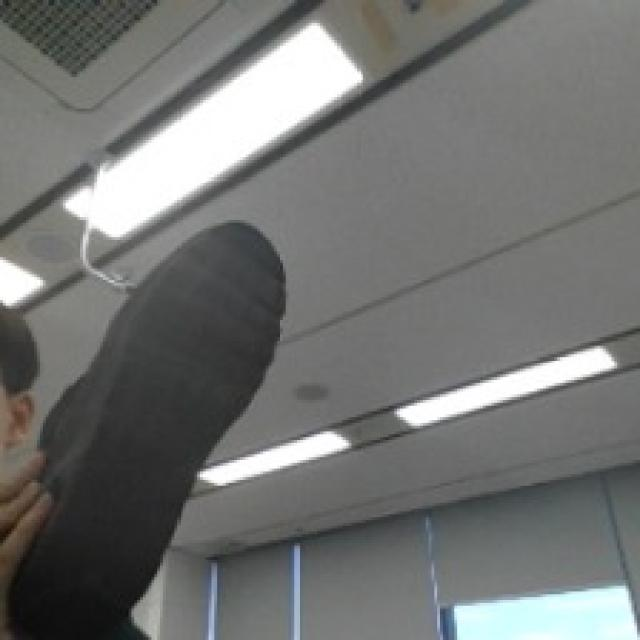shoe: (0, 214, 363, 635)
